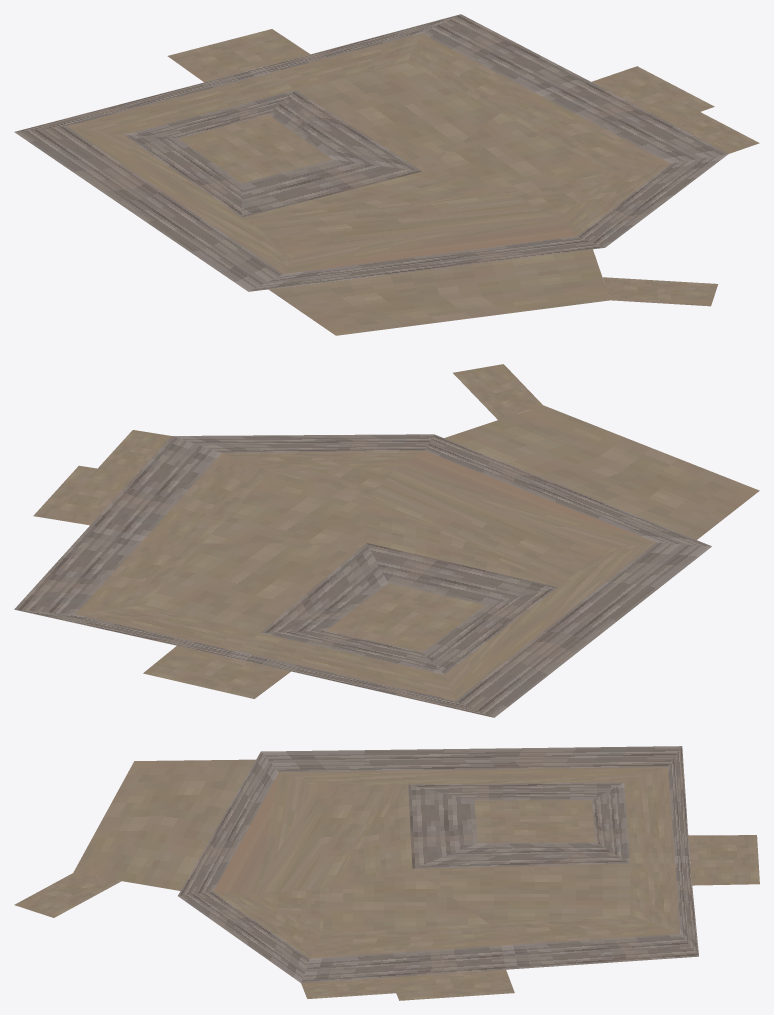
Rendered from pir_m_bld_frt_kingsheadTop_interior_footprint.fbx.
3 views of the same model, one above another, from view 1: azimuth 30°, elevation 25°; view 2: azimuth 150°, elevation 25°; view 3: azimuth 270°, elevation 25° (orthographic). The views are drawn at different scales.
Parts seen in each view (by area): view 1: footprint; view 2: footprint; view 3: footprint.
Part boxes in pixels (bbox=[...]): footprint: bbox=[14, 14, 759, 335]; footprint: bbox=[14, 364, 759, 717]; footprint: bbox=[14, 746, 759, 1000].
Size of the model in its own units: 40865 by 8.83 by 50563.
2 materials, 2 textured.
